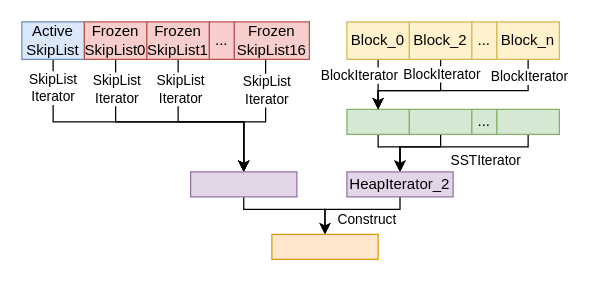
Image size: 589x281. Some labels were removed from this diagram. Here are the shapes that lost their labels. From the top down, the box of each, then its label:
(346, 108, 409, 134): SST_0
(408, 108, 472, 134): SST_1
(496, 108, 559, 134): SST_n
(189, 171, 297, 197): HeapIterator_1
(271, 233, 378, 259): MergeIterator
